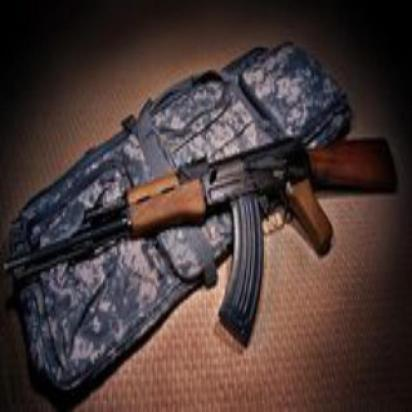Gun: (12, 114, 399, 346)
